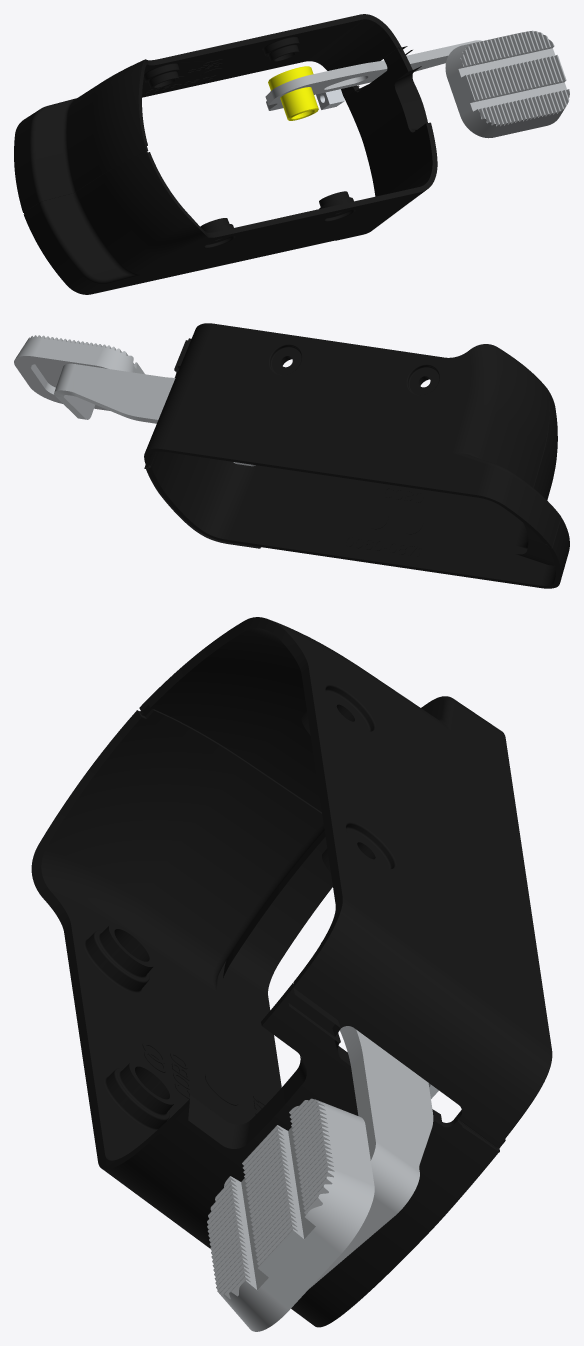
The model's file is Test texture pedale 2 Embedded.gltf.
3 renders of one model, top to bottom at view 1: azimuth 30°, elevation 25°; view 2: azimuth 150°, elevation 25°; view 3: azimuth 270°, elevation 25°, orthographic. The views are drawn at different scales.
Visible parts, largest first — view 1: node_id8_mesh_id9, node_id11_mesh_id12, node_id27_mesh_id28, node_id15_mesh_id16, node_id18_mesh_id19, node_id24_mesh_id25; view 2: node_id11_mesh_id12, node_id8_mesh_id9, node_id15_mesh_id16, node_id27_mesh_id28, node_id21_mesh_id22; view 3: node_id8_mesh_id9, node_id11_mesh_id12, node_id27_mesh_id28, node_id15_mesh_id16.
Part boxes in pixels (<box>): node_id8_mesh_id9: <box>23,46,437,294</box>; node_id11_mesh_id12: <box>14,14,403,213</box>; node_id27_mesh_id28: <box>445,30,569,138</box>; node_id15_mesh_id16: <box>265,40,481,110</box>; node_id18_mesh_id19: <box>268,66,318,120</box>; node_id24_mesh_id25: <box>316,89,344,109</box>; node_id11_mesh_id12: <box>144,323,560,548</box>; node_id8_mesh_id9: <box>144,338,569,588</box>; node_id15_mesh_id16: <box>54,363,255,466</box>; node_id27_mesh_id28: <box>14,335,144,410</box>; node_id21_mesh_id22: <box>35,364,62,387</box>; node_id8_mesh_id9: <box>31,709,505,1327</box>; node_id11_mesh_id12: <box>139,617,552,1150</box>; node_id27_mesh_id28: <box>207,1098,374,1331</box>; node_id15_mesh_id16: <box>310,942,433,1287</box>.
Bounding box in the file's own units: 0.5175 × 0.2273 × 0.2259.
